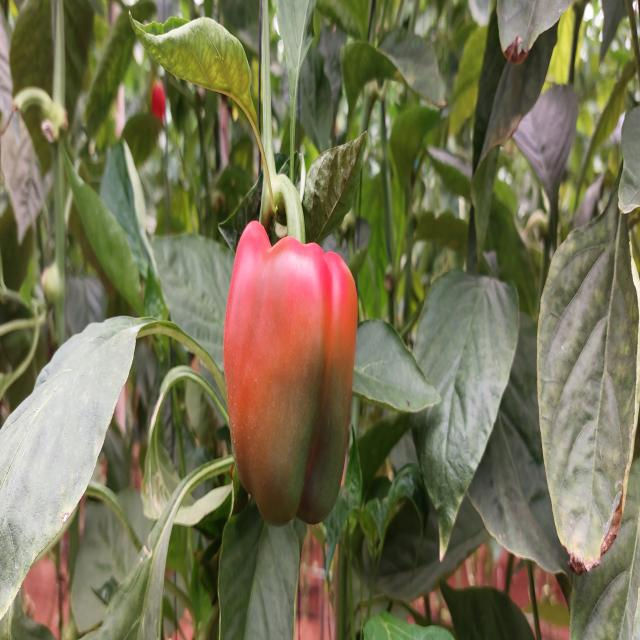BrownishRed--Can-be-Harvested: (228, 216, 364, 536)
